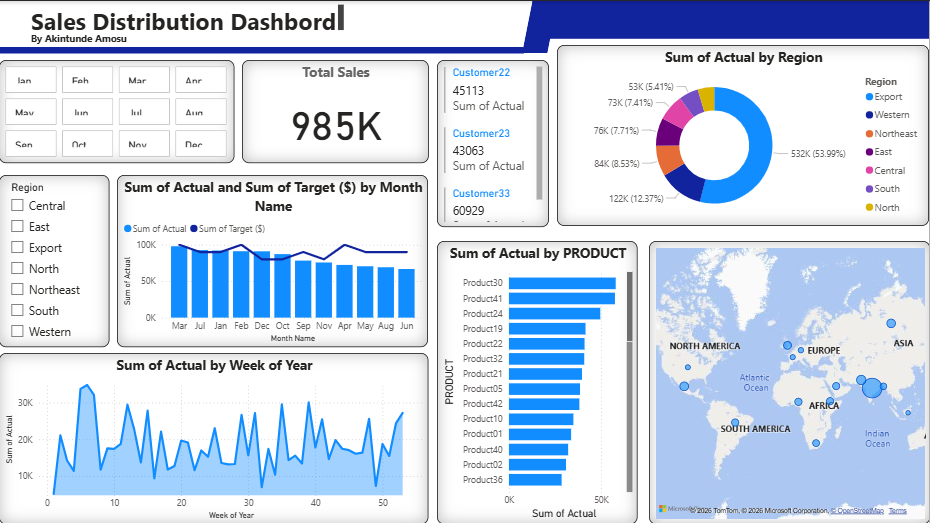

This screenshot's page, from the dashboard's own definition file:
{"tool":"powerbi","page":{"name":"Page 1","canvas":[1280,720],"ordinal":0},"visuals":[{"type":"advancedSlicerVisual","fields":{"Values":["InputData.Month Name"]},"box":[0,80.6,323.9,141.8],"z":0},{"type":"card","title":"Total Sales","fields":{"Values":["Sum(InputData.Actual)"]},"box":[334.3,80.6,256.7,141.8],"z":1000},{"type":"slicer","fields":{"Values":["Country.Region"]},"box":[0,238.8,152.2,237.3],"z":2000},{"type":"lineStackedColumnComboChart","fields":{"Category":["TargetData.Month Name"],"Y":["Sum(InputData.Actual)"],"Y2":["Sum(TargetData.Target ($))"]},"box":[162.7,238.8,428.4,237.3],"z":3000},{"type":"areaChart","fields":{"Y":["Sum(InputData.Actual)"],"Category":["InputData.Week of Year"]},"box":[0,485.1,591,235.8],"z":4000},{"type":"multiRowCard","fields":{"Values":["Country.Customer Name","Sum(InputData.Actual)"]},"box":[603,80.6,153.7,229.9],"z":5000},{"type":"clusteredBarChart","fields":{"Category":["InputData.PRODUCT"],"Y":["Sum(InputData.Actual)"]},"box":[603,329.9,276.1,389.6],"z":6000},{"type":"donutChart","fields":{"Y":["Sum(InputData.Actual)"],"Category":["Country.Region"]},"box":[768.7,61.2,511.9,249.3],"z":7000},{"type":"map","fields":{"Category":["Country.Country"],"Size":["Sum(InputData.Actual)"]},"box":[894,329.9,386.6,389.6],"z":8000},{"type":"shape","box":[0,62.7,722.4,9],"z":9000},{"type":"shape","box":[744.8,0,535.8,52.2],"z":10000},{"type":"shape","box":[719.4,0,49.3,71.6],"z":11000},{"type":"textbox","box":[38.2,0,441,48.6],"z":12000},{"type":"textbox","box":[38.2,41,285,20.2],"z":13000}]}

Visuals, with their boxes in screenshot pixels (x1, y1, x2, y2), scaled from the page's 1280x720 canvas onto the 930x523 screenshot:
advancedSlicerVisual - InputData.Month Name: Rect(0, 59, 235, 162)
"Total Sales" card: Rect(243, 59, 429, 162)
slicer - Country.Region: Rect(0, 173, 111, 346)
lineStackedColumnComboChart - TargetData.Month Name x Sum(InputData.Actual): Rect(118, 173, 429, 346)
areaChart - Sum(InputData.Actual) x InputData.Week of Year: Rect(0, 352, 429, 522)
multiRowCard - Country.Customer Name x Sum(InputData.Actual): Rect(438, 59, 550, 226)
clusteredBarChart - InputData.PRODUCT x Sum(InputData.Actual): Rect(438, 240, 639, 522)
donutChart - Sum(InputData.Actual) x Country.Region: Rect(559, 44, 929, 226)
map - Country.Country x Sum(InputData.Actual): Rect(650, 240, 929, 522)
shape: Rect(0, 46, 525, 52)
shape: Rect(541, 0, 929, 38)
shape: Rect(523, 0, 559, 52)
textbox: Rect(28, 0, 348, 35)
textbox: Rect(28, 30, 235, 44)
